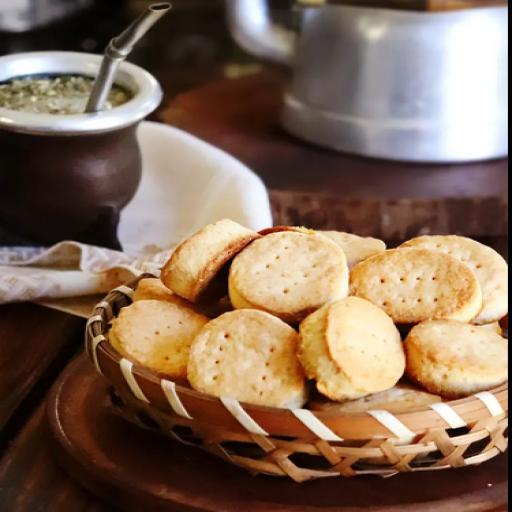bolleria: (110, 220, 507, 414)
mate: (0, 47, 148, 251)
